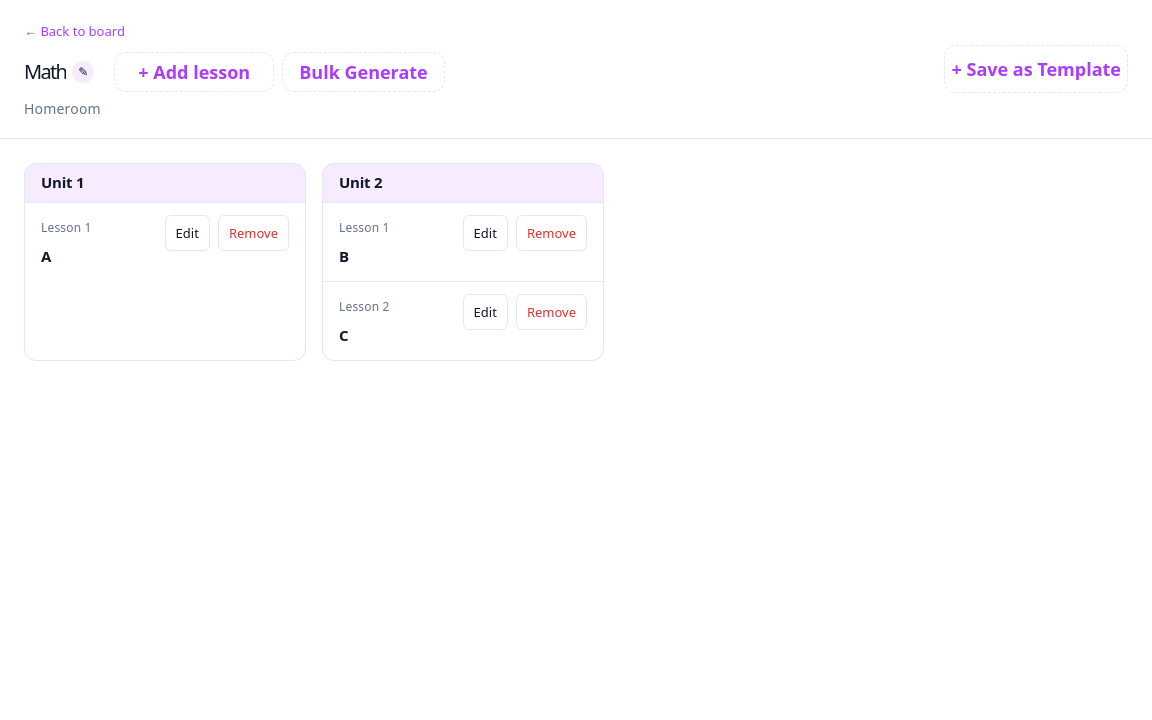
Curriculum › pre-fills Unit and Lesson to the last-used unit and next available lesson number when opened on a subject with existing lessons
The image size is (1152, 720).
Click the button "+ Add lesson" at (194, 72), box top-left (114, 52), bottom-right (274, 92)
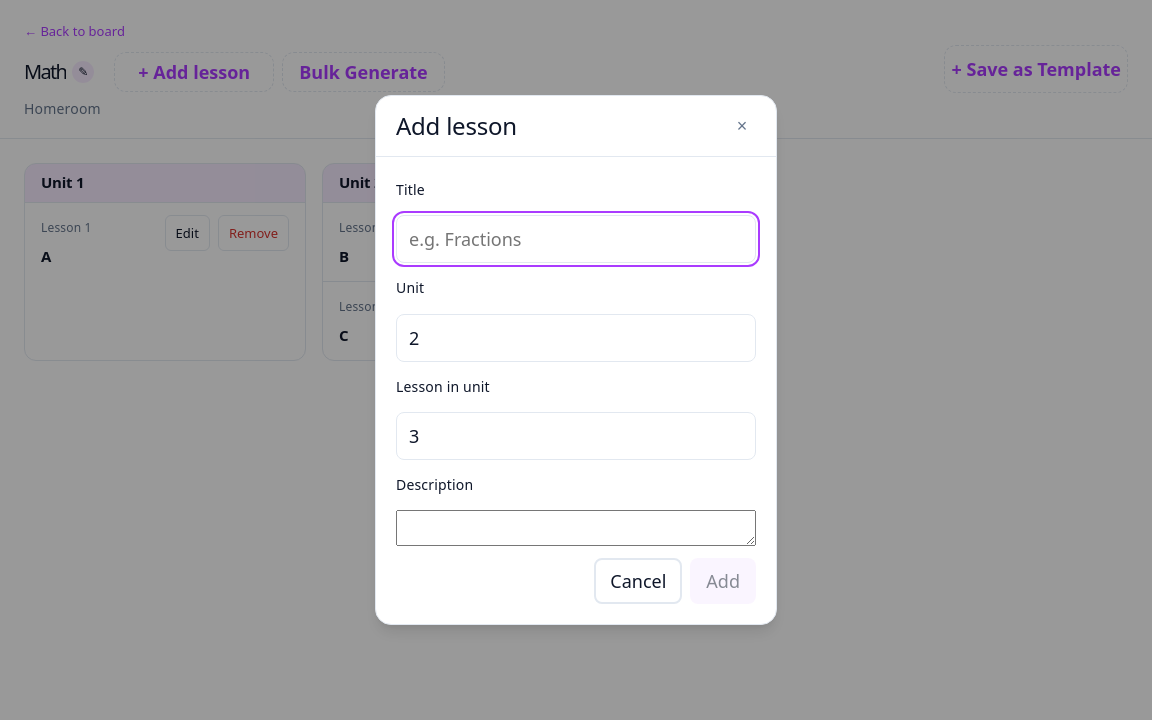
Check: the number field labelled "Unit" holds "2", box top-left (396, 314), bottom-right (756, 362)
Check: the number field labelled "Lesson in unit" holds "3", box top-left (396, 412), bottom-right (756, 460)
